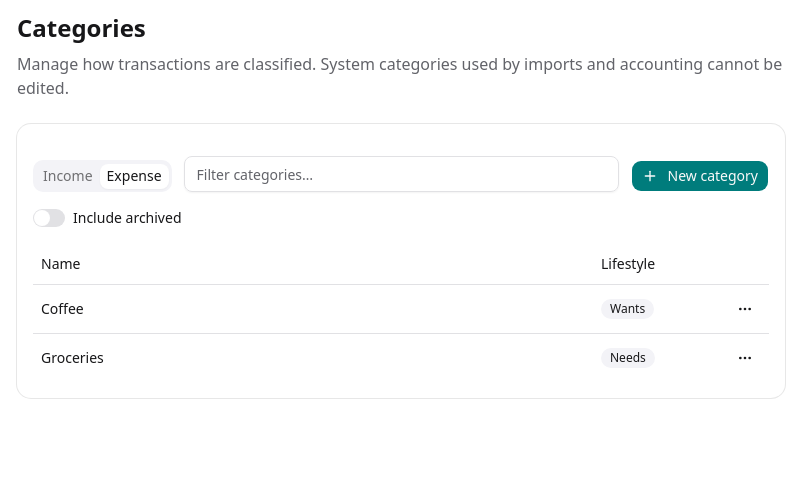
it: CategoriesLayout › switching to Income tab updates the URL and shows Income rows
This screenshot has width=803, height=490.
Expected: the text "Groceries" is shown, [41,348,104,368]
Click the tab "Income" at x=68, y=176, box [36,164,100,188]
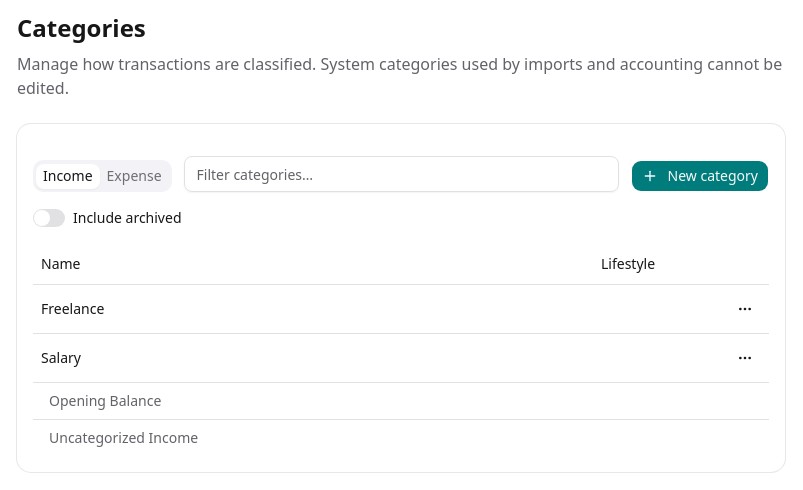
Result: the text "Salary" is shown at [41,348,81,368]
Result: the text "Groceries" is gone
